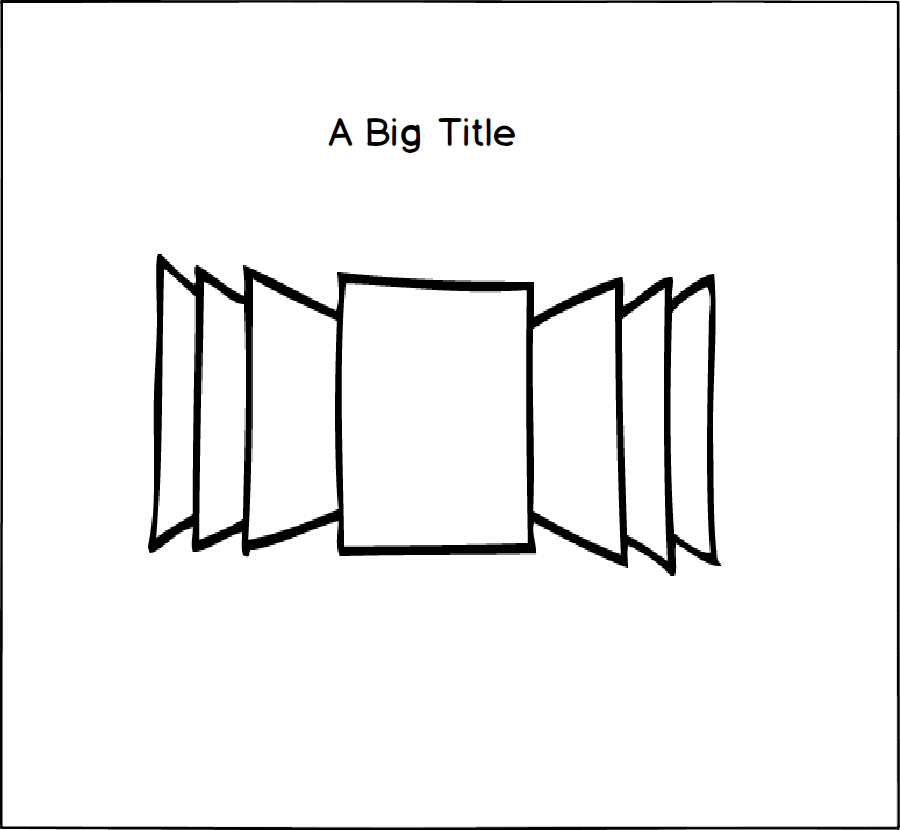h1: (317, 99, 522, 166)
slideshow: (134, 235, 736, 595)
